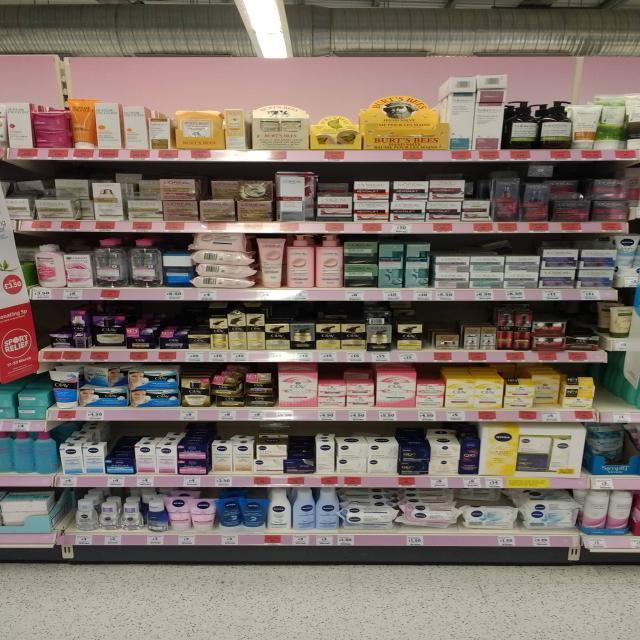empty: (597, 390, 634, 422)
